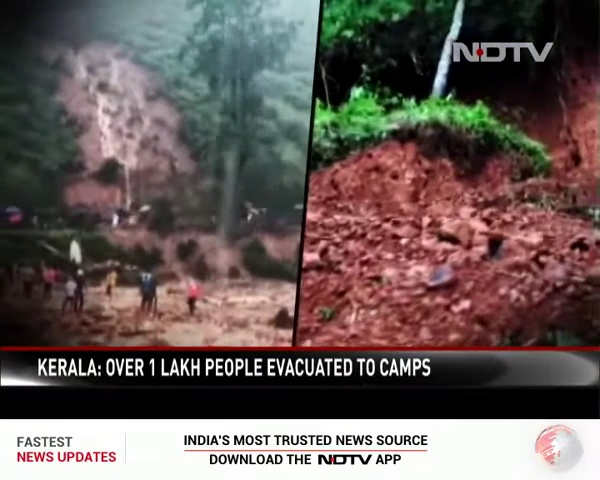person: (182, 277, 200, 318), (139, 267, 154, 313), (64, 277, 82, 314), (42, 266, 56, 305), (105, 267, 118, 304), (22, 266, 32, 301)
